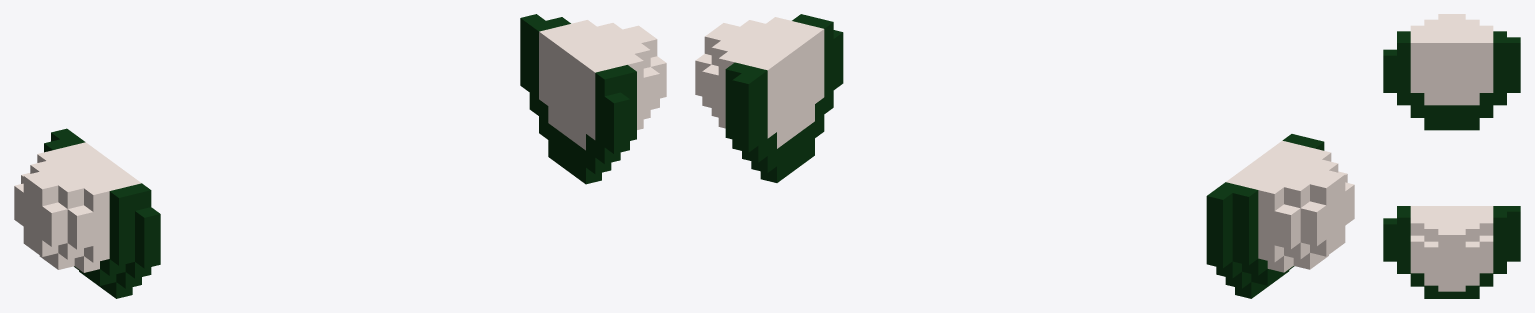
File: humanoid-36.obj
The picture shows the model from 3 angles, left to right: view 1: azimuth 30°, elevation 25°; view 2: azimuth 150°, elevation 25°; view 3: azimuth 270°, elevation 25°; orthographic projection. The views are drawn at different scales.
Parts seen in each view (by area): view 1: humanoid-36; view 2: humanoid-36; view 3: humanoid-36.
Boxes of the visible parts, <box> form: humanoid-36: <box>14,14,666,298</box>; humanoid-36: <box>695,14,1354,298</box>; humanoid-36: <box>1383,14,1520,298</box>.
Size of the model in its own units: 38 by 7 by 10.
1 material, 1 textured.
